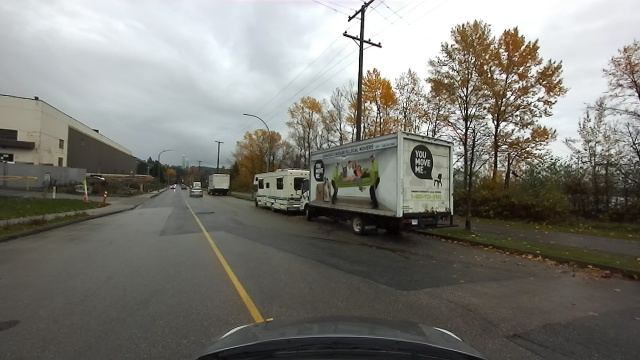car: (302, 140, 454, 240), (252, 168, 301, 217), (207, 170, 231, 198), (188, 179, 202, 203), (181, 184, 187, 191), (169, 185, 177, 190)
